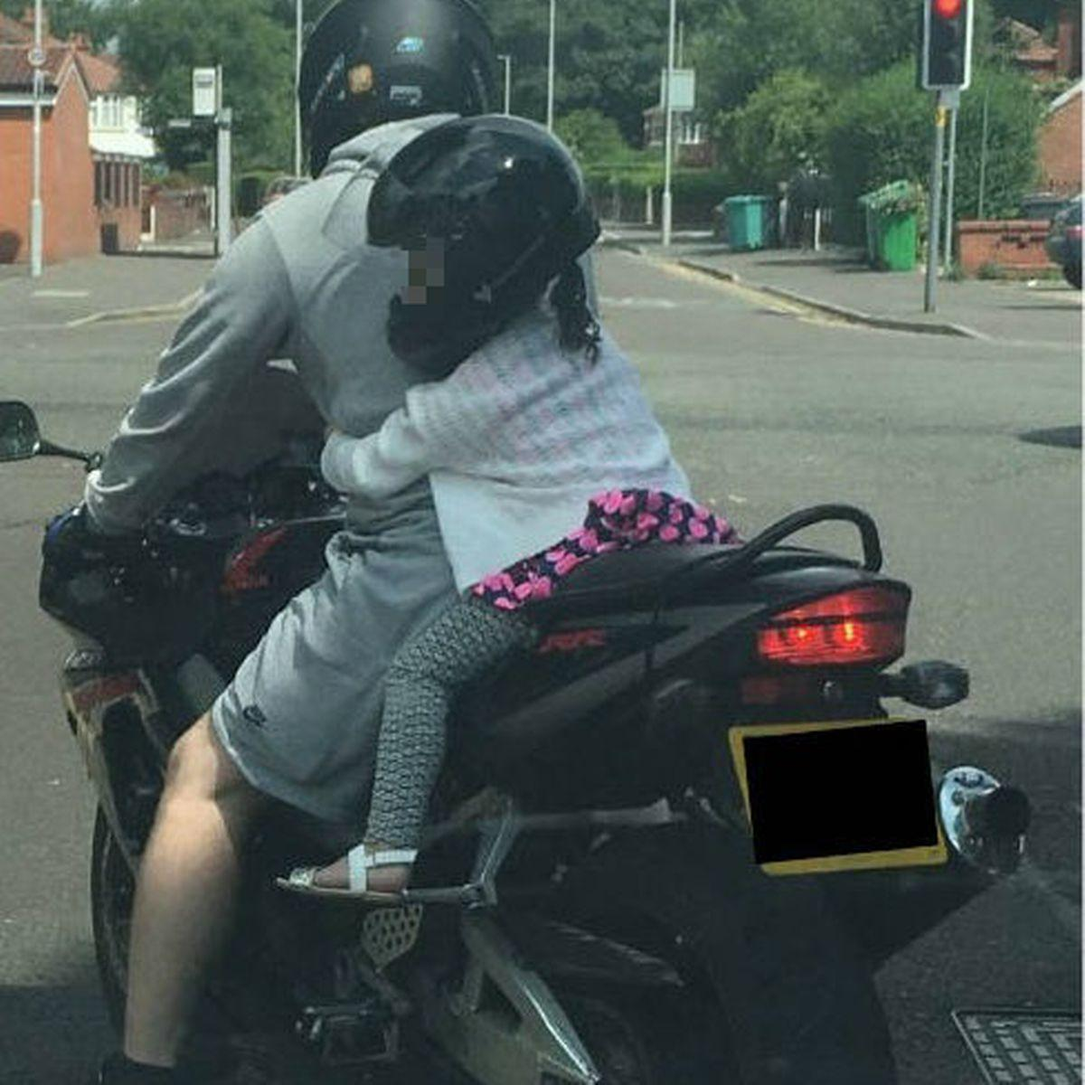helmet: (332, 120, 637, 339), (253, 0, 534, 197)
